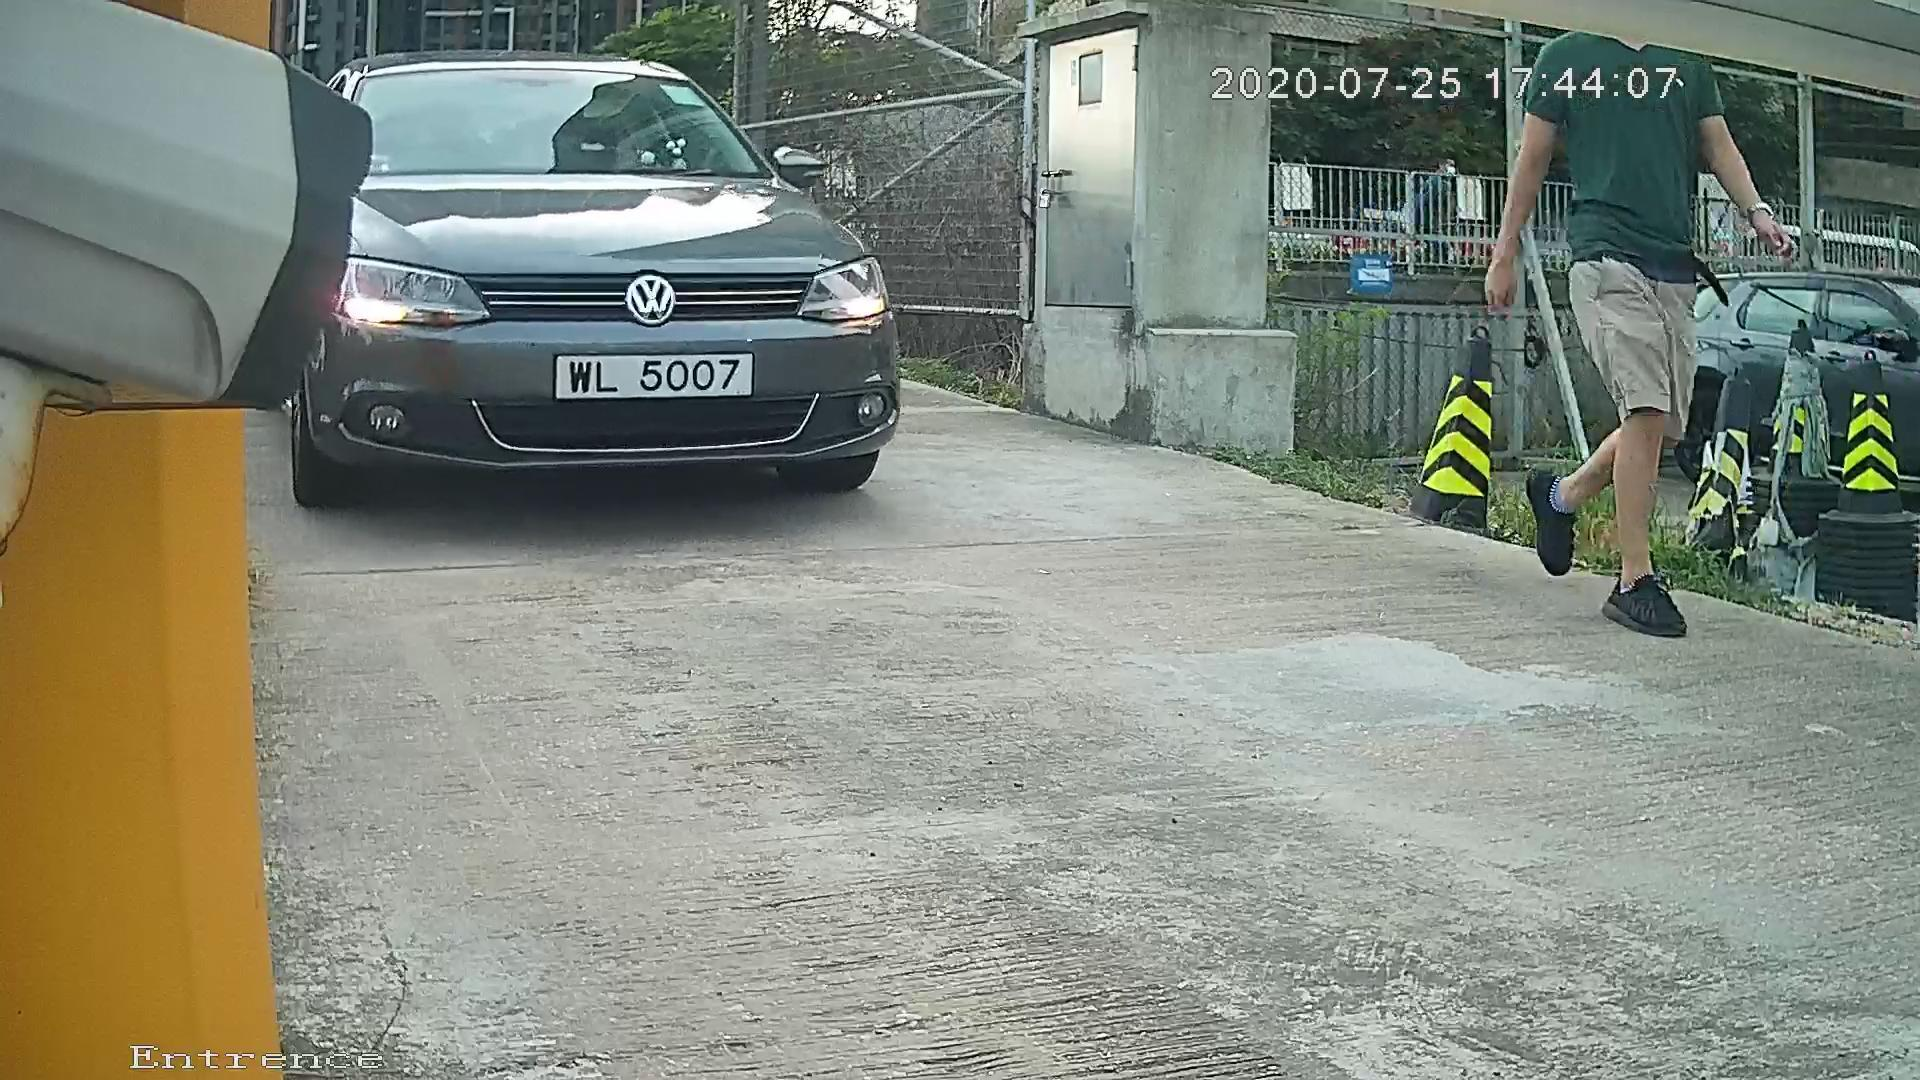privatecar: (223, 5, 1011, 541)
